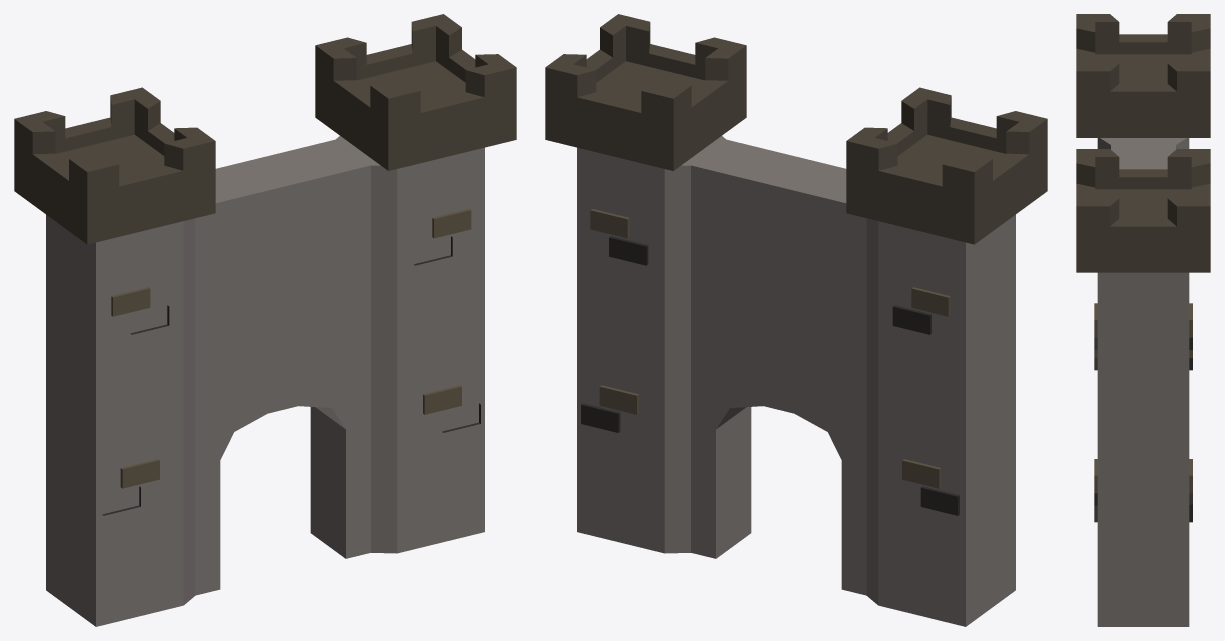
Rendered from wall1.fbx.
3 renders of one model, left to right at view 1: azimuth 30°, elevation 25°; view 2: azimuth 150°, elevation 25°; view 3: azimuth 270°, elevation 25°, orthographic. The views are drawn at different scales.
Visible parts, largest first — view 1: wall2; view 2: wall2; view 3: wall2.
Part boxes in pixels (box(x1,y1,x2,y2)): wall2: box(14, 14, 516, 626); wall2: box(545, 14, 1047, 626); wall2: box(1076, 14, 1210, 626).
Bounding box in the file's own units: 597 × 622 × 176.
